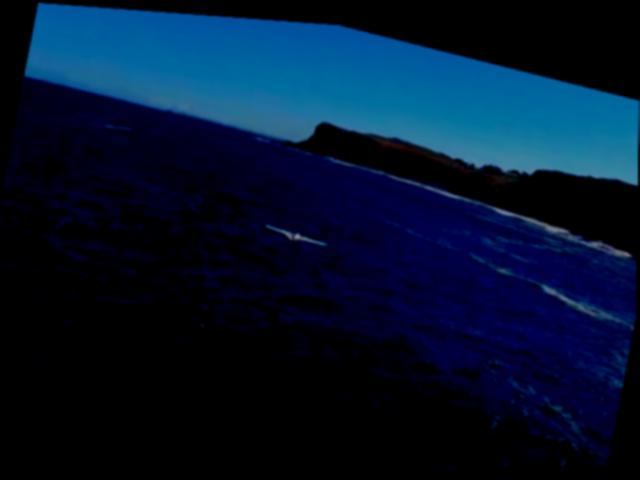uav: (258, 211, 332, 247)
